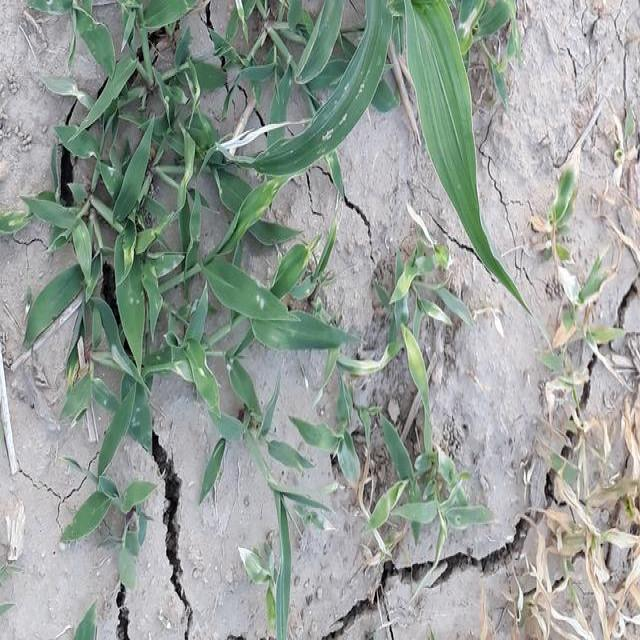weed: (36, 0, 324, 537)
